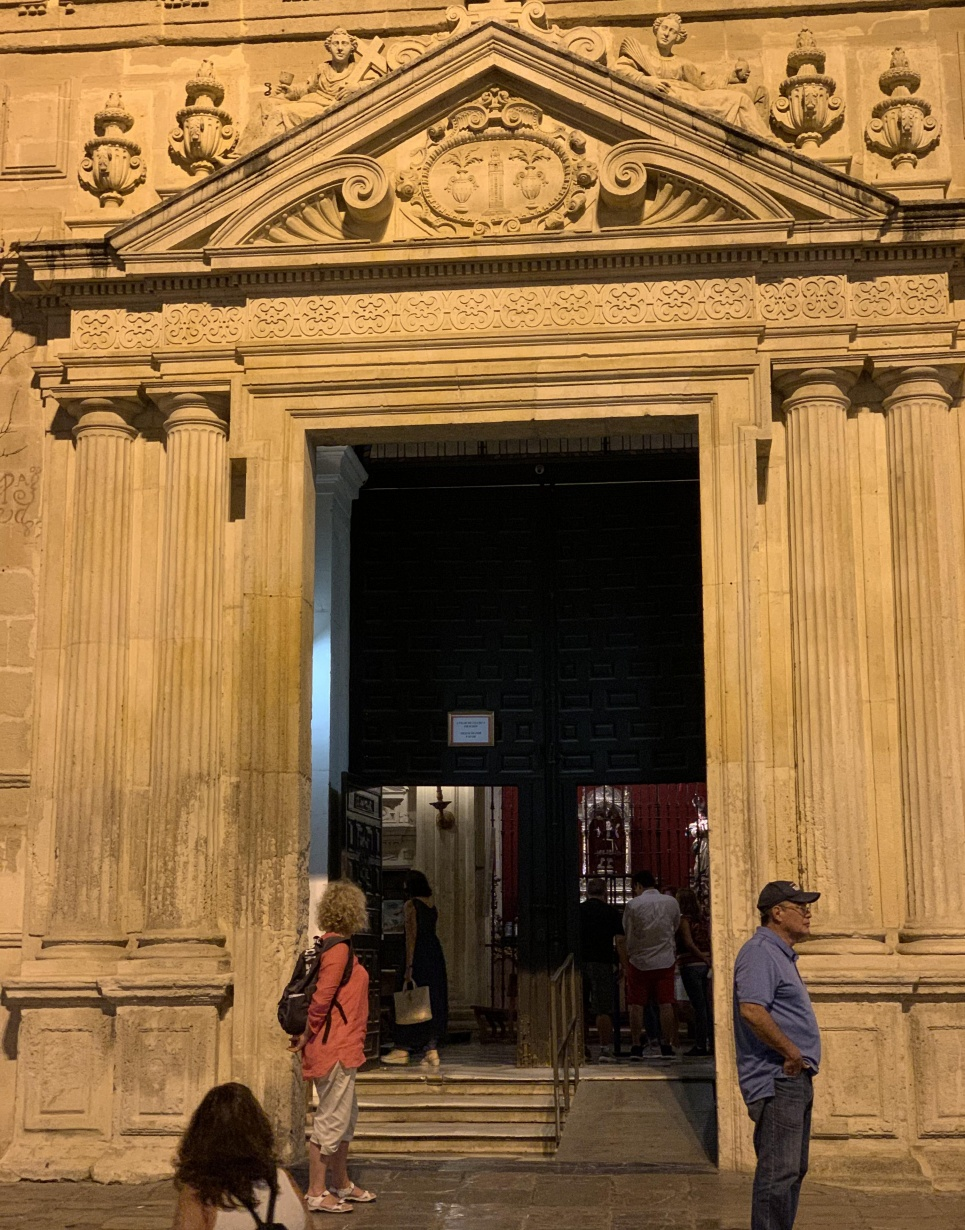fronton: (93, 24, 920, 276)
fronton-partido: (202, 140, 794, 260)
vano-adintelado: (252, 373, 771, 1194)
